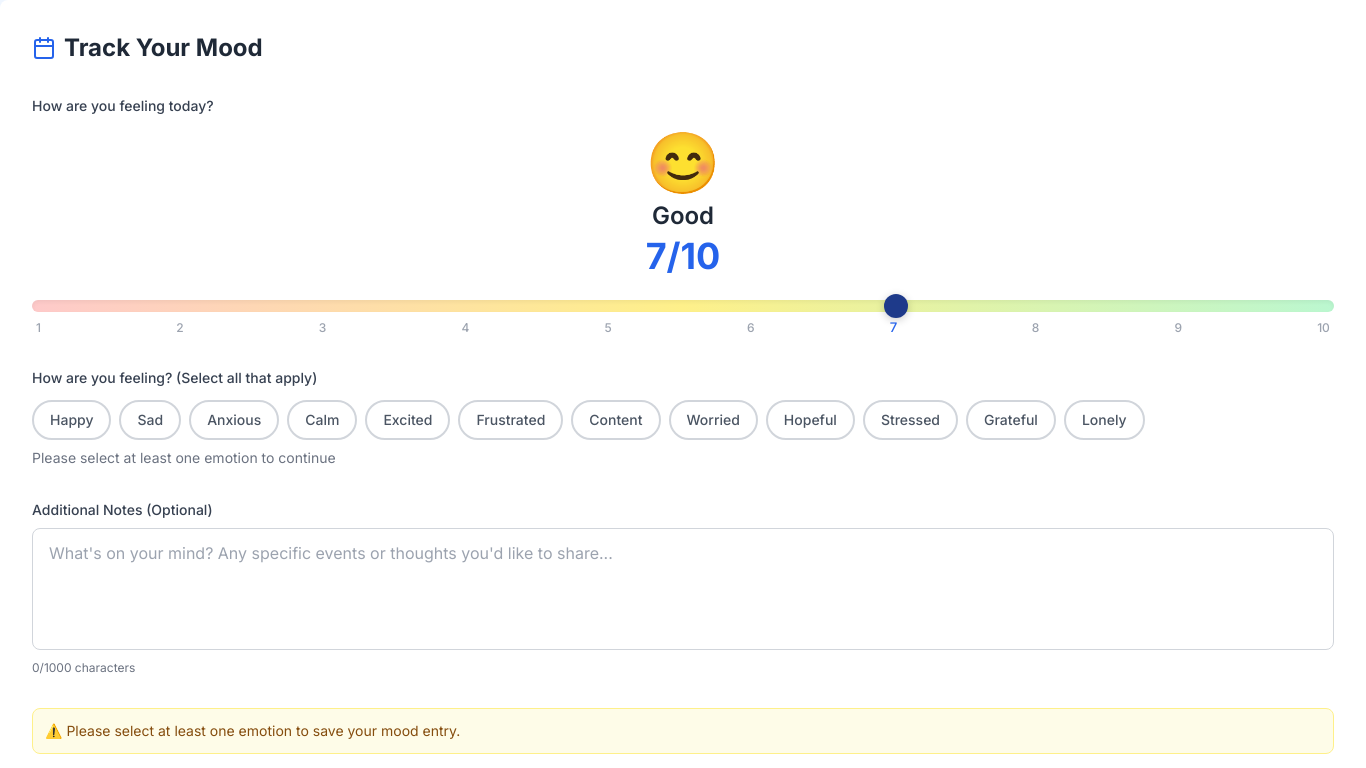
Test: ClientView Component › shows success message after saving
Click the checkbox "Happy". click: (72, 420)
box: left=32, top=400, right=112, bottom=440
(page scrolled)
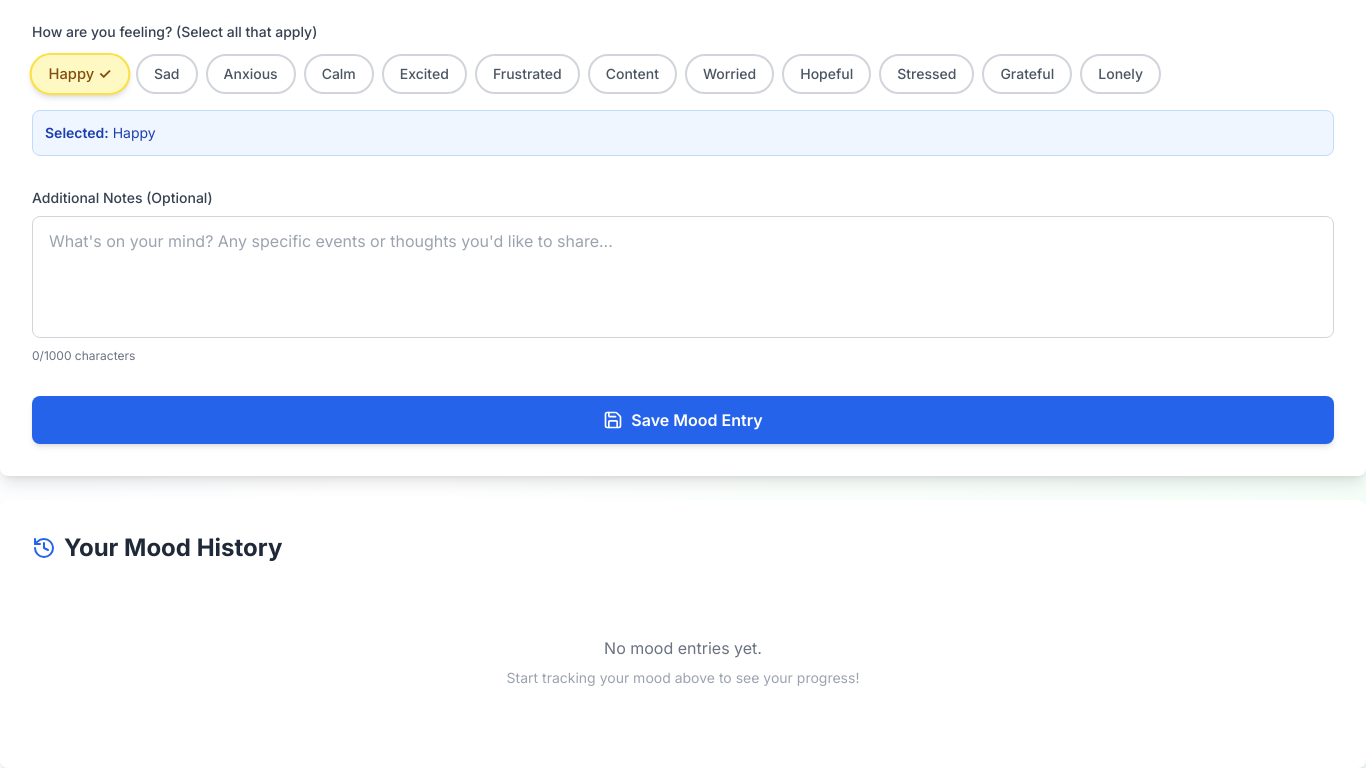
Click the button "Save Mood Entry". click: (683, 420)
box: left=32, top=396, right=1334, bottom=444
(page scrolled)
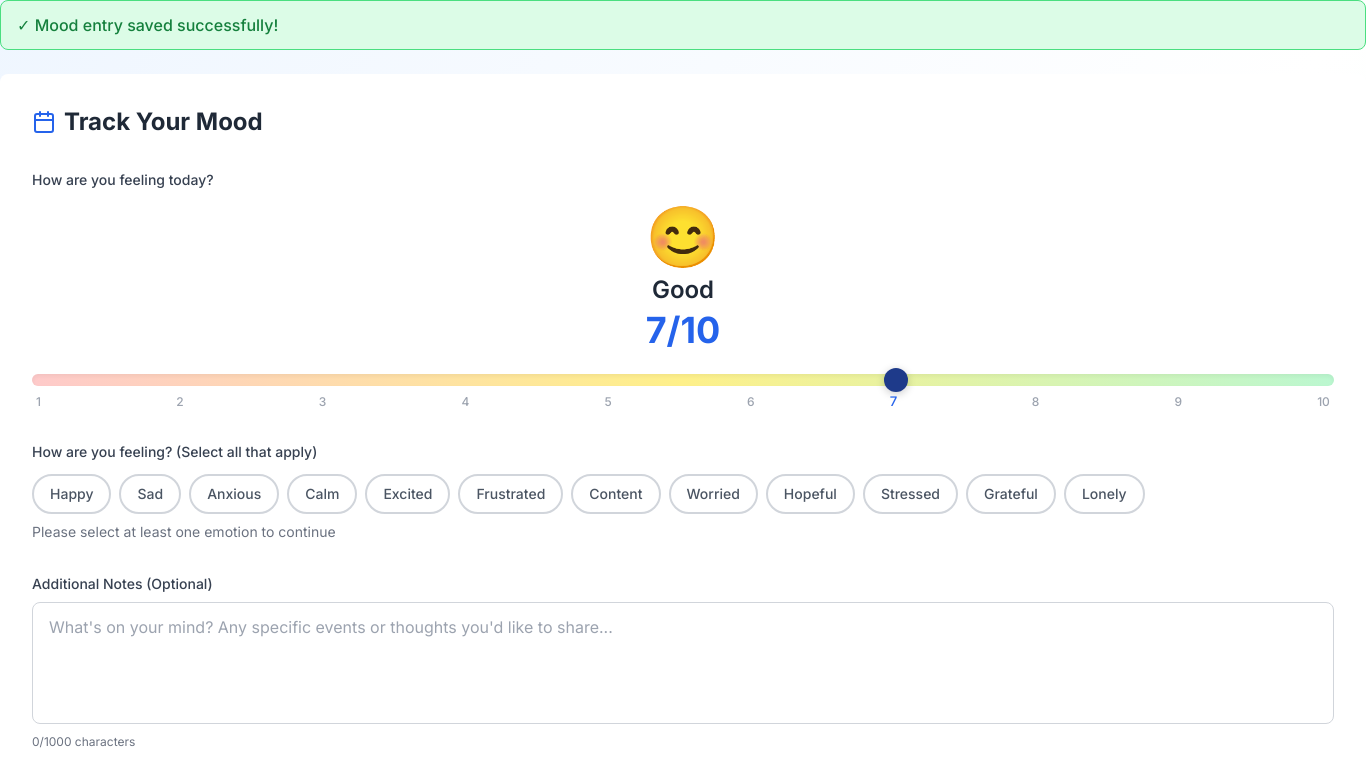
Check: the text "✓ Mood entry saved successfully!" is shown, box left=17, top=15, right=278, bottom=35
